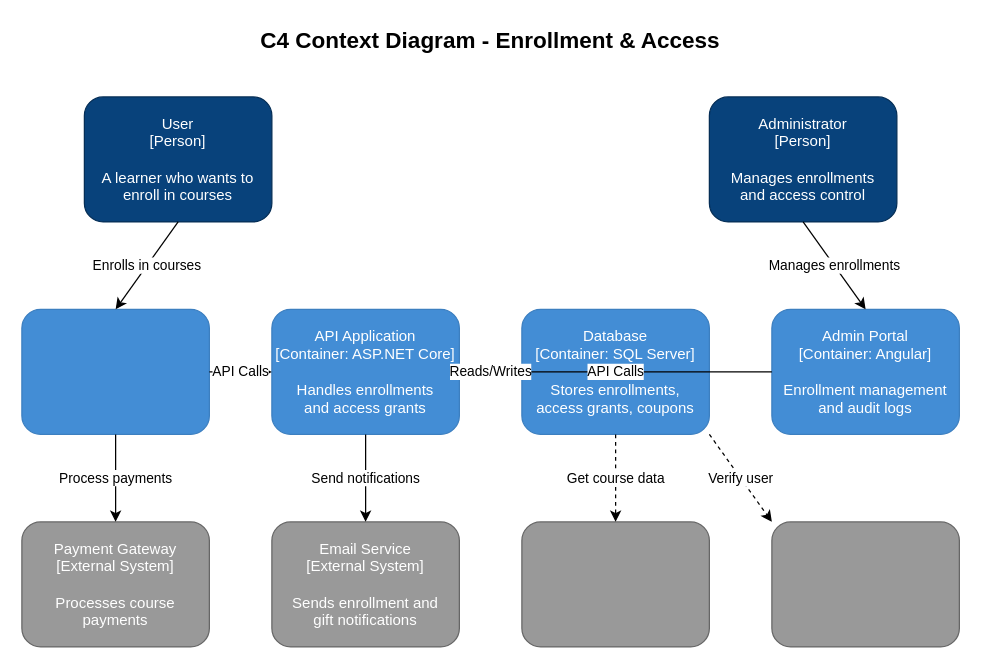
This 981x669 diagram has some shape labels left out. Here are the shapes that lost their labels. From the top down, the centre of each, then its label:
the point at 115,371: Web Application [Container: Angular] Provides enrollment UI and access controls
the point at 615,584: Course Management [Internal System] Provides course data and availability
the point at 865,584: Identity & Access [Internal System] User authentication and authorization
